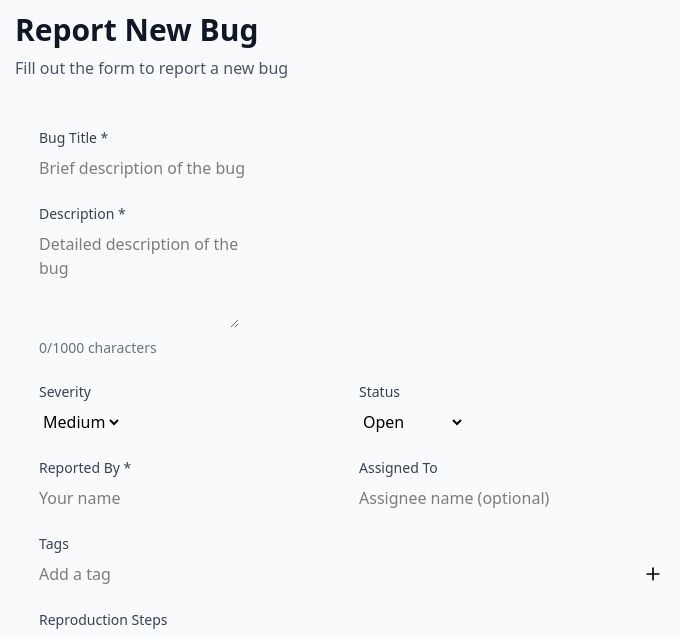
BugForm Component › adds and removes tags
The width and height of the screenshot is (680, 639).
Type "frontend" into the field with placeholder "Add a tag" at (337, 574), box [39, 562, 635, 586]
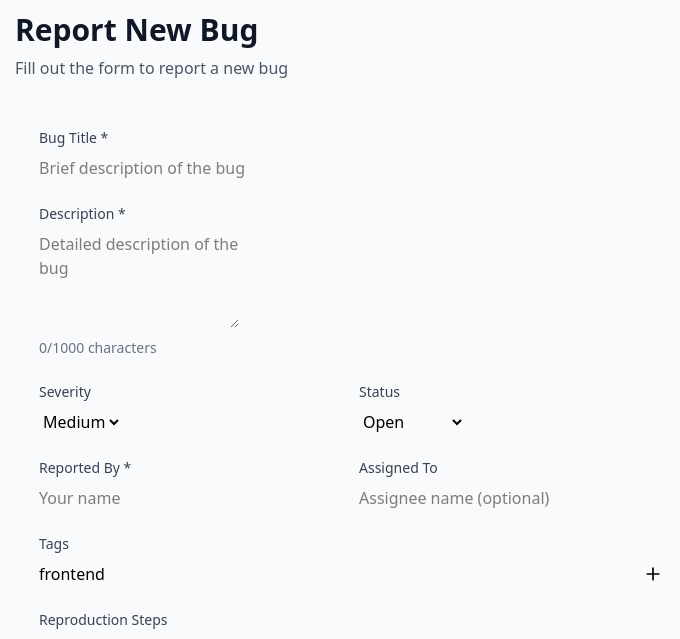
Click the button at (653, 574), box [643, 562, 663, 586]
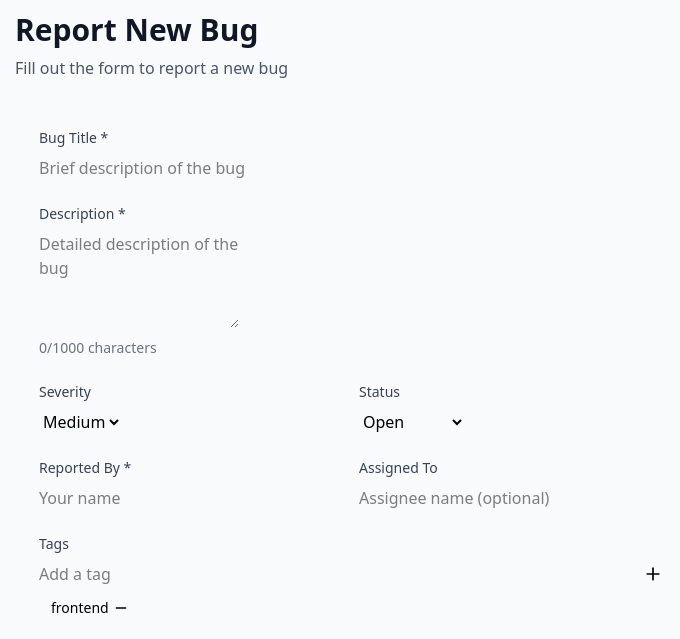
Expected: the text "frontend" is shown, [51, 598, 109, 618]
Click the button without text next to "frontend" at (121, 608), box [113, 600, 129, 616]
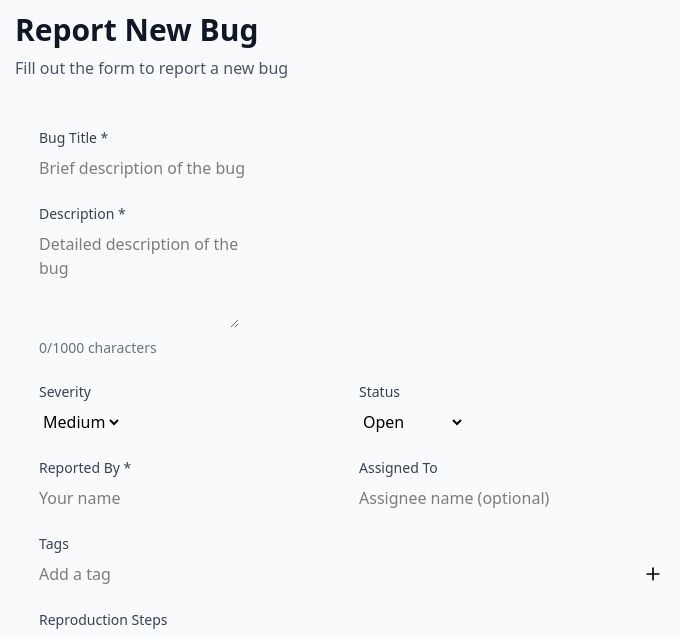
Expected: the text "frontend" is gone
